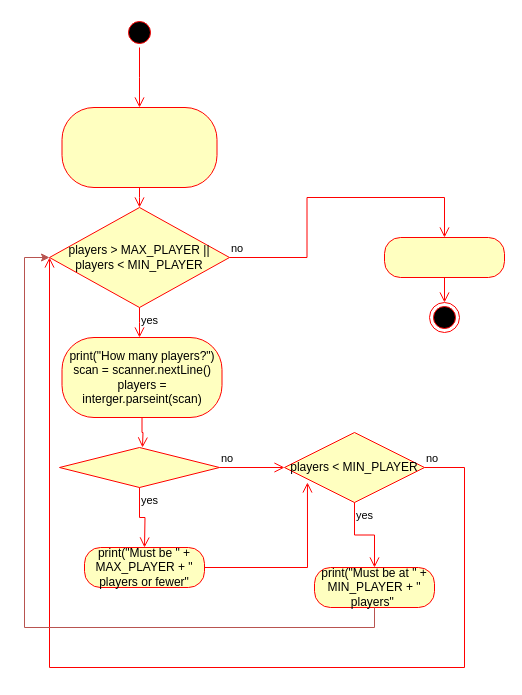
The diagram is 522 pixels wide and 695 high, and some of its shapes have lost their labels. Here are the shapes that lost their labels. From the top down, the box of each, then its label:
(61, 106, 217, 188): players = 0 scanner = new scanner(system.in) string scan
(384, 236, 504, 278): return player
(58, 446, 220, 488): players > MAX_PLAYER
